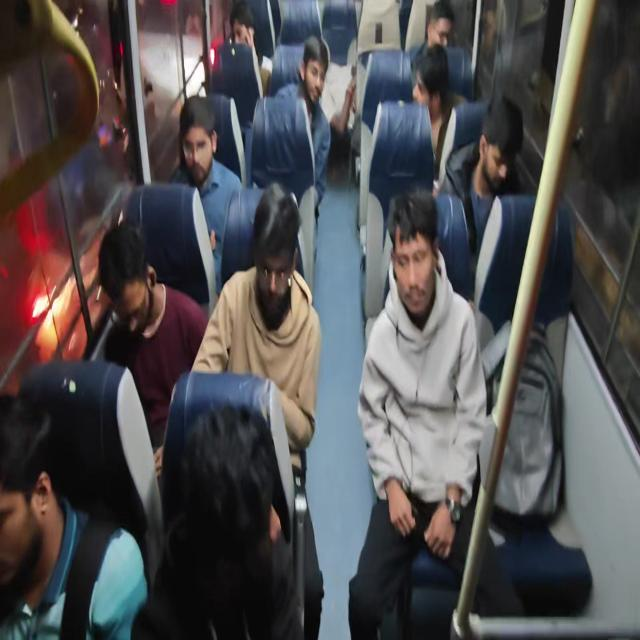person: (166, 396, 286, 618), (382, 185, 453, 345), (2, 388, 55, 568), (89, 211, 156, 343), (250, 180, 296, 333), (476, 72, 525, 202), (176, 87, 220, 208), (408, 39, 454, 136), (295, 36, 329, 118), (224, 0, 259, 62), (426, 2, 458, 54)
